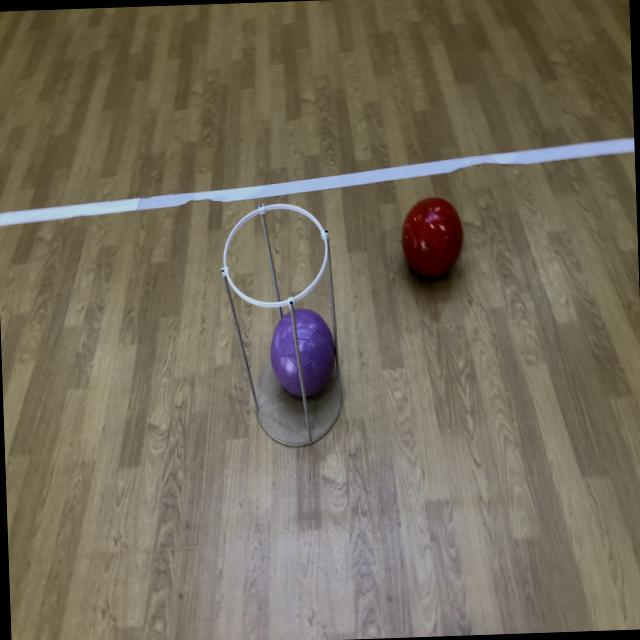purple_ball: (268, 306, 338, 398)
red_ball: (400, 196, 464, 279)
